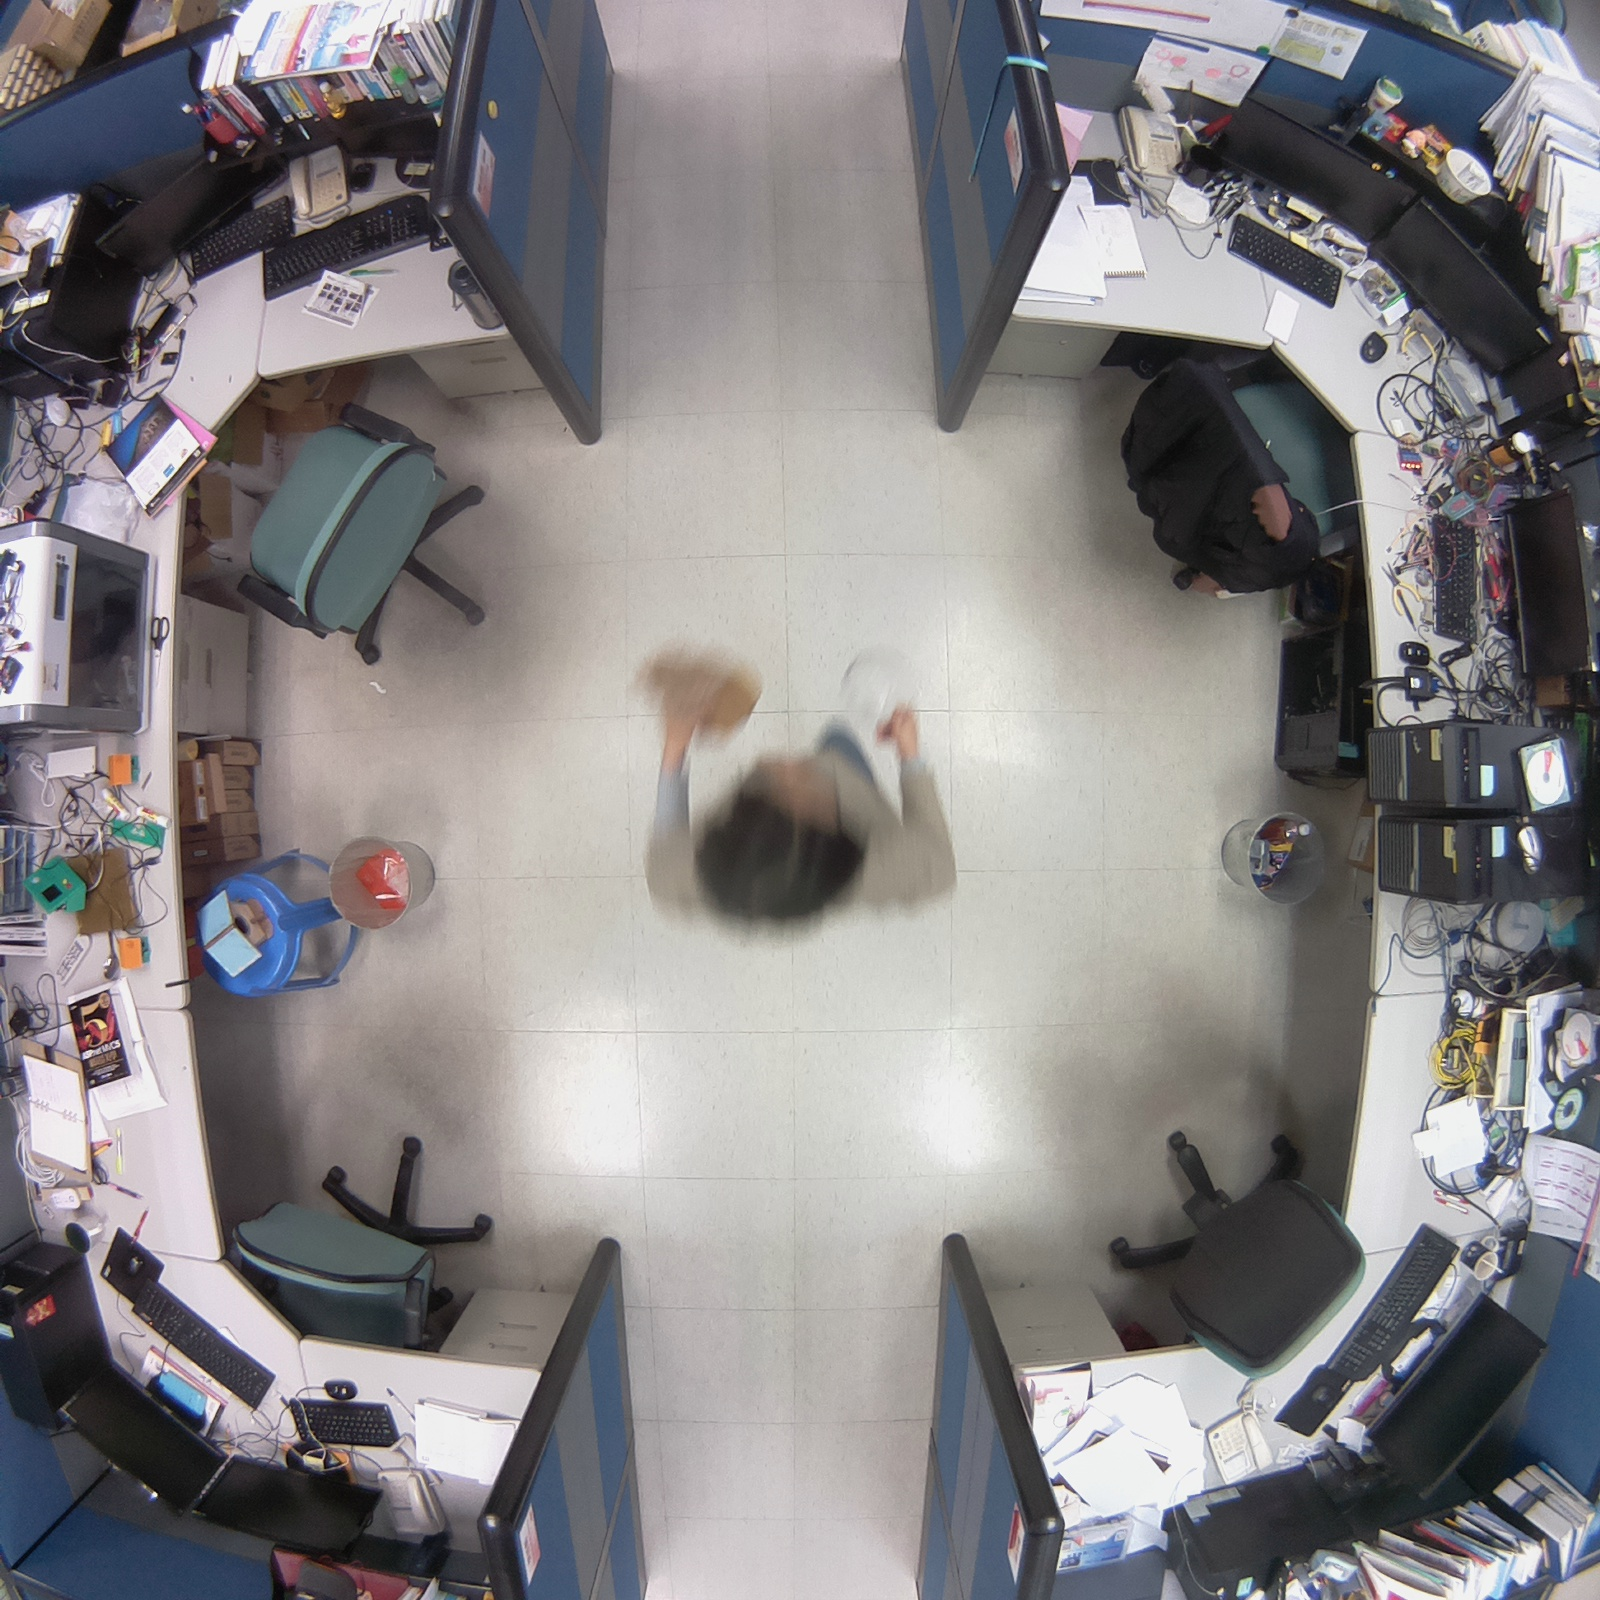chair: (178, 381, 514, 691), (1106, 319, 1391, 614), (191, 1114, 522, 1358), (1096, 1114, 1388, 1391)
head: (678, 755, 872, 946)
walking: (631, 643, 971, 955)
